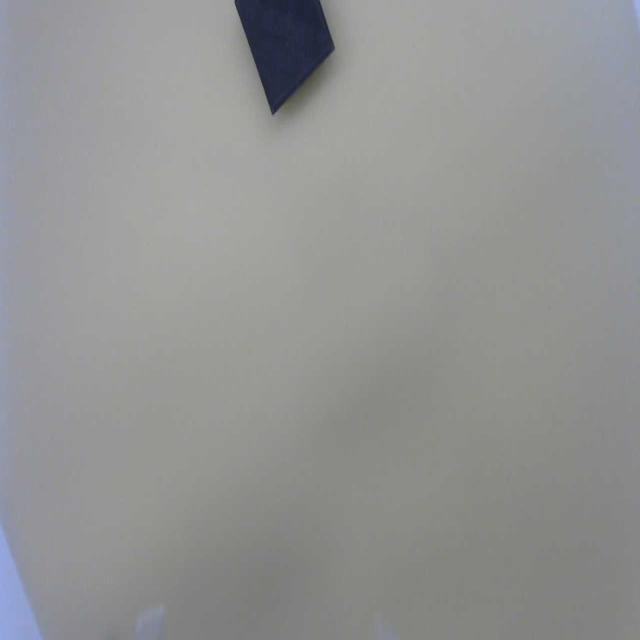square: (254, 2, 336, 114)
